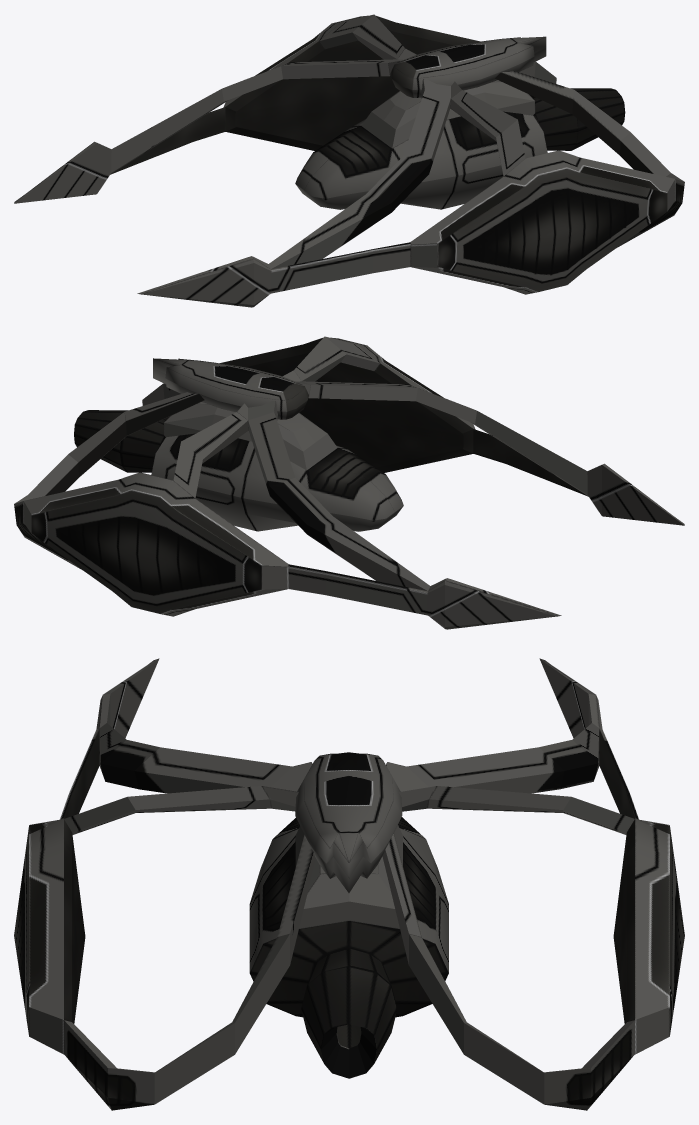
Rendered from Scout.FBX.
The picture shows the model from 3 angles, top to bottom: view 1: azimuth 30°, elevation 25°; view 2: azimuth 150°, elevation 25°; view 3: azimuth 270°, elevation 25°; orthographic projection. The views are drawn at different scales.
Visible parts, largest first — view 1: Box01, Box02, ChamferBox02, ChamferBox01; view 2: Box02, Box01, ChamferBox02, ChamferBox01; view 3: Box02, Box01, ChamferBox02, ChamferBox01.
Boxes of the visible parts, box(x1,y1,x2,y2) form: Box01: box(137, 70, 684, 307); Box02: box(14, 14, 556, 203); ChamferBox02: box(295, 80, 625, 209); ChamferBox01: box(390, 36, 546, 97); Box02: box(14, 392, 561, 629); Box01: box(142, 336, 684, 525); ChamferBox02: box(74, 402, 403, 531); ChamferBox01: box(153, 358, 308, 419); Box02: box(382, 658, 684, 1110); Box01: box(14, 658, 315, 1110); ChamferBox02: box(249, 817, 448, 1078); ChamferBox01: box(295, 752, 402, 892).
Size of the model in its own units: 512 by 155 by 356.
1 material, 1 textured.
